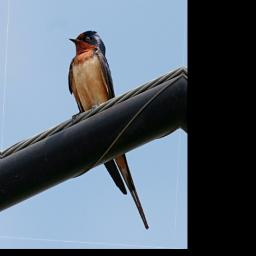Swallow: (59, 27, 159, 230)
